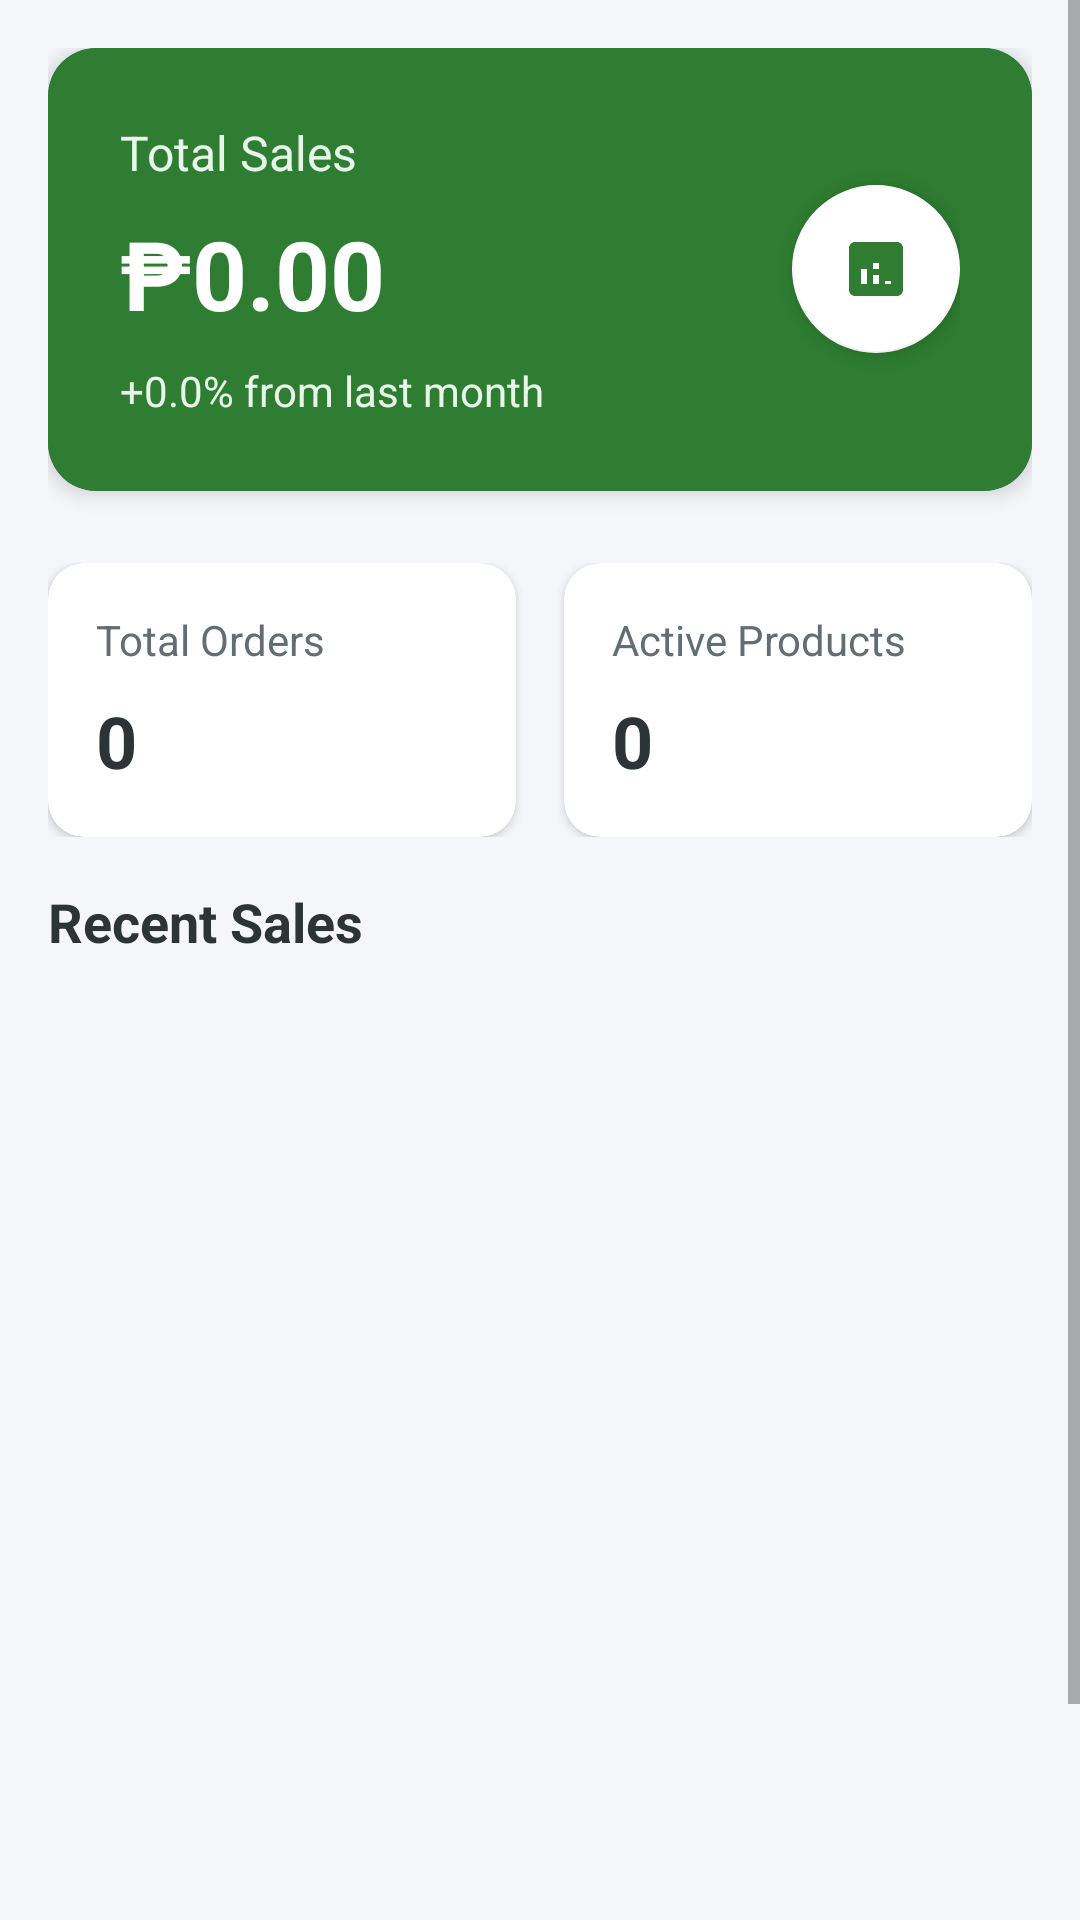

Named icons in this screenshot (1080 × 1920) and their bounding boxes, (x1, y1, x2, y2):
analytics: (792, 185, 960, 353)
